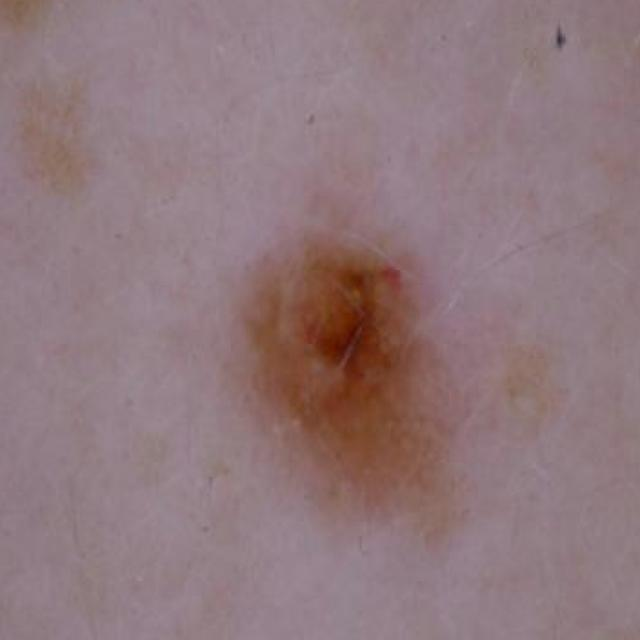NV: (223, 200, 442, 526)
